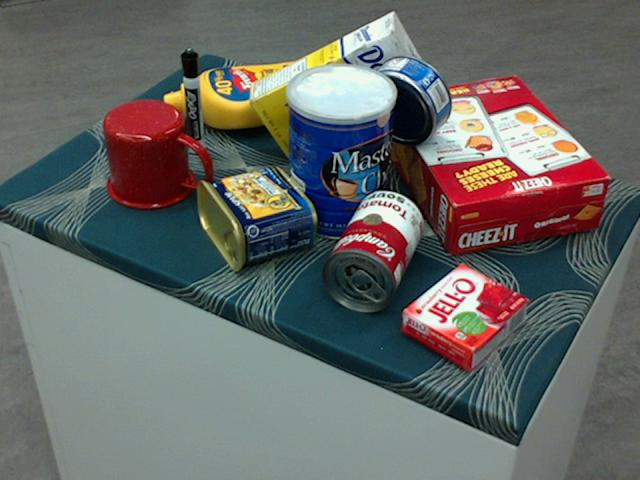cracker_box: (379, 74, 607, 254)
gelatin_box: (401, 263, 527, 369)
large_marker: (179, 48, 206, 153)
master_chef_can: (285, 64, 395, 241)
mug: (103, 99, 210, 209)
mustard_bottle: (162, 58, 334, 127)
potted_meat_can: (194, 165, 316, 271)
sugar_box: (245, 12, 434, 163)
tomato_soup_can: (319, 189, 424, 311)
tuna_fish_can: (363, 53, 452, 143)
